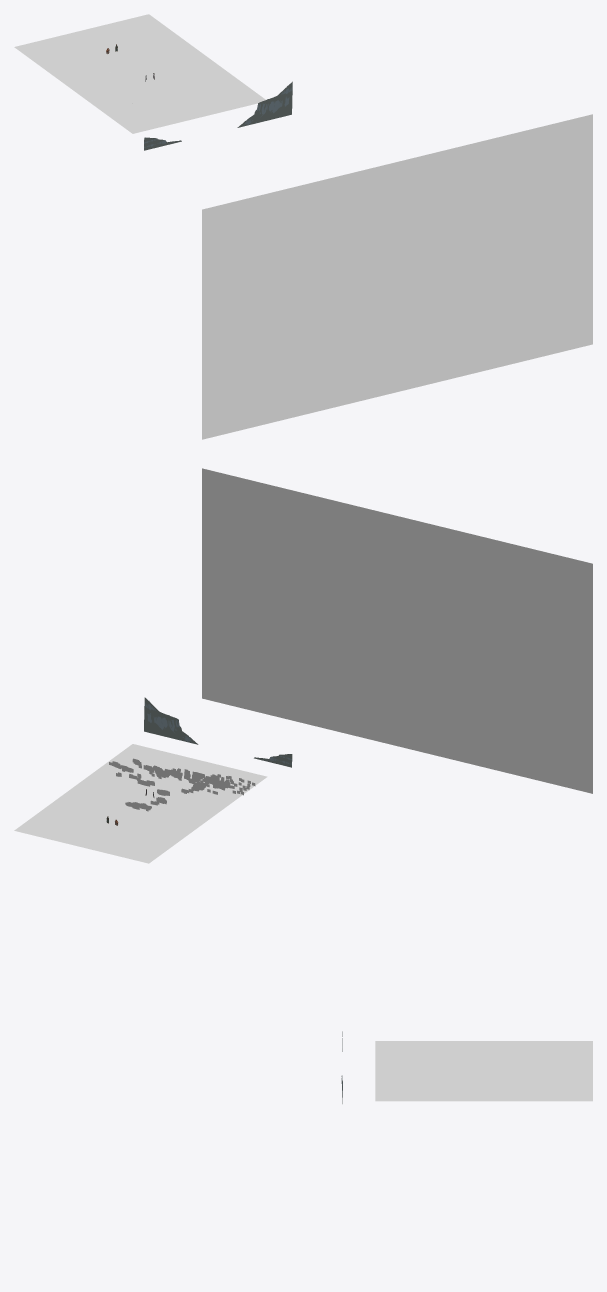
File: Duel_3_empty_y.glb
3 views of the same model, one above another, from view 1: azimuth 30°, elevation 25°; view 2: azimuth 150°, elevation 25°; view 3: azimuth 270°, elevation 25° (orthographic). The views are drawn at different scales.
Parts seen in each view (by area): view 1: Sky, Ground, Puddles, Cliffs; view 2: Sky, Ground, Puddles, Cliffs; view 3: Ground, Puddles.
Boxes of the visible parts, bbox=[...] form: Sky: bbox=[202, 114, 592, 439]; Ground: bbox=[14, 14, 265, 133]; Puddles: bbox=[17, 19, 188, 108]; Cliffs: bbox=[144, 81, 292, 150]; Sky: bbox=[202, 468, 592, 793]; Ground: bbox=[14, 744, 267, 863]; Puddles: bbox=[21, 779, 232, 861]; Cliffs: bbox=[144, 697, 292, 767]; Ground: bbox=[375, 1041, 592, 1101]; Puddles: bbox=[426, 1041, 590, 1101].
Size of the model in its own units: 53.23 by 29.94 by 74.48.
Materials: 9 (5 with a texture image).
